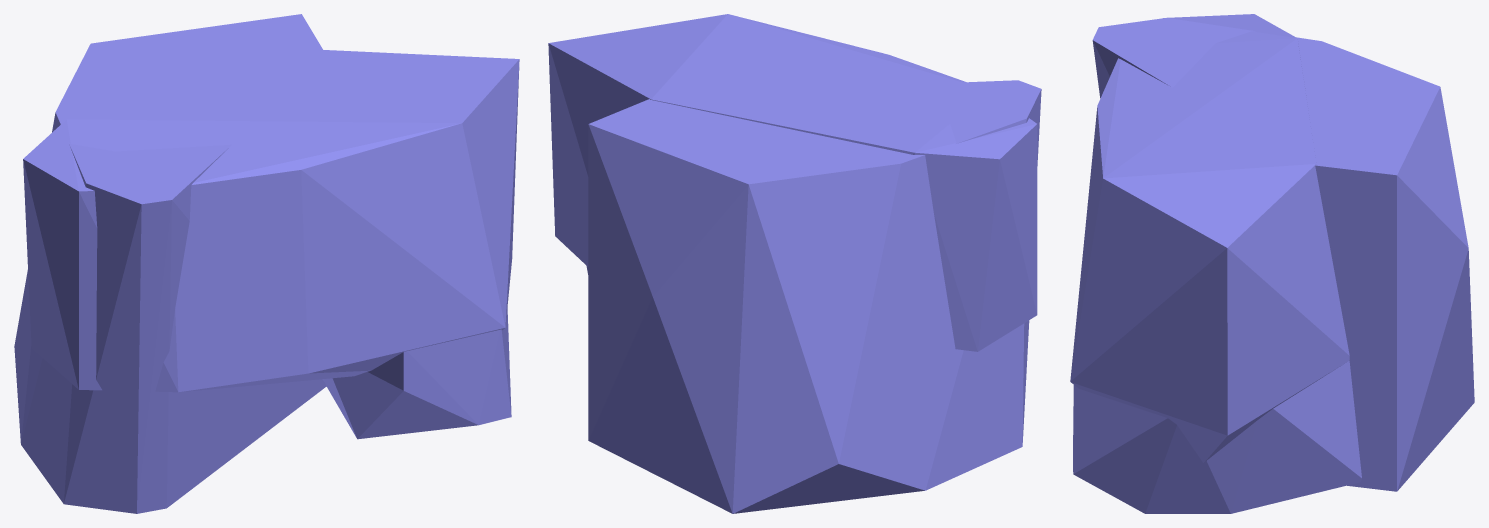
Rendered from Cliff_Block_01_Collider_01.FBX.
The picture shows the model from 3 angles, left to right: view 1: azimuth 30°, elevation 25°; view 2: azimuth 150°, elevation 25°; view 3: azimuth 270°, elevation 25°; orthographic projection. The views are drawn at different scales.
Visible parts, largest first — view 1: COLLIDER1, COLLIDER3, COLLIDER2; view 2: COLLIDER3, COLLIDER1; view 3: COLLIDER1, COLLIDER3, COLLIDER2.
Part boxes in pixels (<box>): COLLIDER1: <box>23,49,519,392</box>; COLLIDER3: <box>14,14,326,513</box>; COLLIDER2: <box>324,307,511,439</box>; COLLIDER3: <box>588,80,1041,513</box>; COLLIDER1: <box>548,14,1037,351</box>; COLLIDER1: <box>1070,14,1349,463</box>; COLLIDER3: <box>1092,18,1474,491</box>; COLLIDER2: <box>1073,361,1361,513</box>.
Size of the model in its own units: 218 by 145 by 164.
